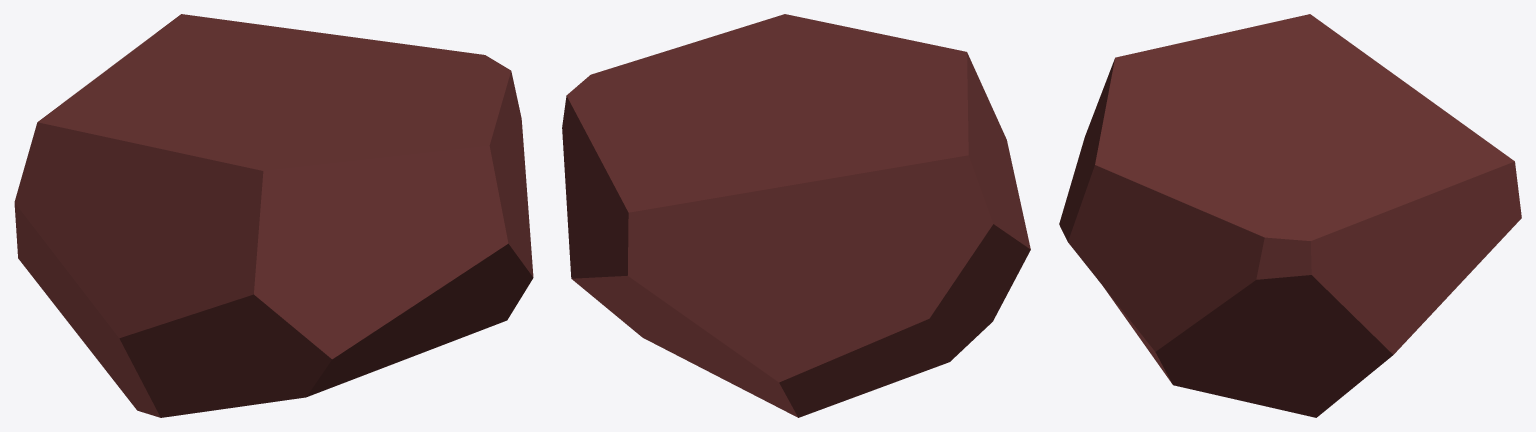
Rendered from rock_1.fbx.
The picture shows the model from 3 angles, left to right: view 1: azimuth 30°, elevation 25°; view 2: azimuth 150°, elevation 25°; view 3: azimuth 270°, elevation 25°; orthographic projection. The views are drawn at different scales.
Visible parts, largest first — view 1: Icosphere.003; view 2: Icosphere.003; view 3: Icosphere.003.
Boxes of the visible parts, x1=… form: Icosphere.003: x1=14, y1=14, x2=533, y2=417; Icosphere.003: x1=562, y1=14, x2=1030, y2=417; Icosphere.003: x1=1059, y1=14, x2=1521, y2=417.
Bounding box in the file's own units: 187 × 119 × 180.
